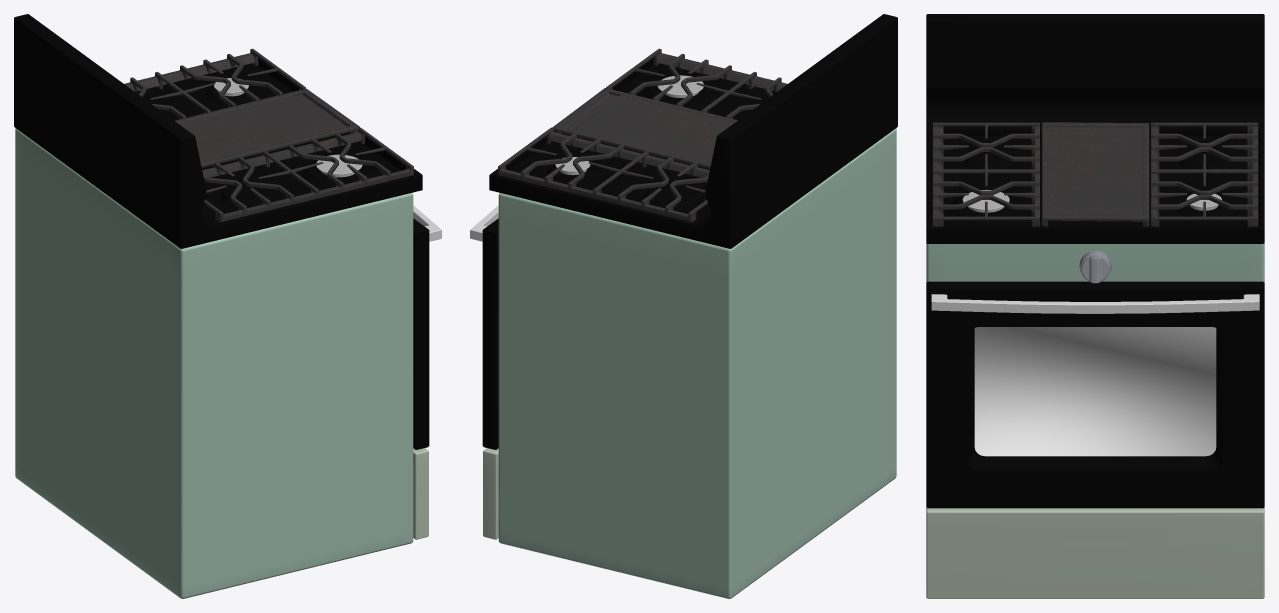
The model's file is stove.glb.
The picture shows the model from 3 angles, left to right: view 1: azimuth 30°, elevation 25°; view 2: azimuth 150°, elevation 25°; view 3: azimuth 270°, elevation 25°; orthographic projection.
Parts seen in each view (by area): view 1: Stove_01, Stove_Top, Stove_Plate, Stove_Grate_01, Oven_Door, Stove_Grate_02, Broiler_Door; view 2: Stove_01, Stove_Top, Stove_Plate, Stove_Grate_02, Oven_Door, Stove_Grate_01, Broiler_Door; view 3: Stove_Top, Oven_Door, Stove_Glass_Door, Broiler_Door, Stove_01, Stove_Plate, Stove_Grate_01, Stove_Grate_02, Stove_Handle_001, Knob_005, Burner_01.
Part boxes in pixels (x1,y1,x2,y2): Stove_01: (15,128,413,598); Stove_Top: (14,14,422,248); Stove_Plate: (175,88,359,167); Stove_Grate_01: (202,127,413,222); Oven_Door: (413,218,429,449); Stove_Grate_02: (124,48,305,120); Broiler_Door: (413,448,428,539); Stove_01: (498,128,896,598); Stove_Top: (489,14,897,248); Stove_Plate: (552,88,737,168); Stove_Grate_02: (498,127,709,222); Oven_Door: (482,218,498,449); Stove_Grate_01: (606,48,787,118); Broiler_Door: (483,448,498,539); Stove_Top: (926,14,1264,243); Oven_Door: (926,281,1264,508); Stove_Glass_Door: (974,327,1216,456); Broiler_Door: (926,507,1264,598); Stove_01: (926,243,1264,282); Stove_Plate: (1041,122,1149,226); Stove_Grate_01: (932,122,1039,226); Stove_Grate_02: (1151,122,1258,226); Stove_Handle_001: (931,294,1259,313); Knob_005: (1079,250,1111,283); Burner_01: (962,189,1009,212).
Size of the model in its own units: 1.04 by 1.69 by 1.11.
Materials: 7 (2 with a texture image).
